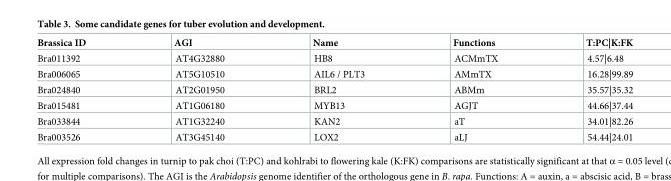table: (36, 37, 632, 142)
table column: (267, 37, 408, 142), (129, 37, 267, 142), (408, 37, 541, 142), (36, 37, 129, 142), (541, 37, 632, 142)
table column header: (36, 37, 632, 50)
table row: (36, 50, 632, 66), (36, 81, 632, 97), (36, 97, 632, 113), (36, 113, 632, 129), (36, 66, 632, 81), (36, 37, 632, 50), (36, 129, 632, 142)
